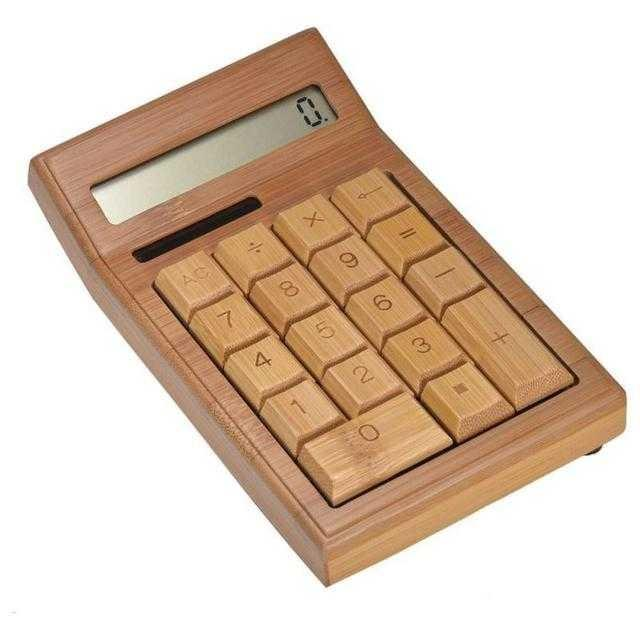Calculator: (26, 25, 628, 587)
